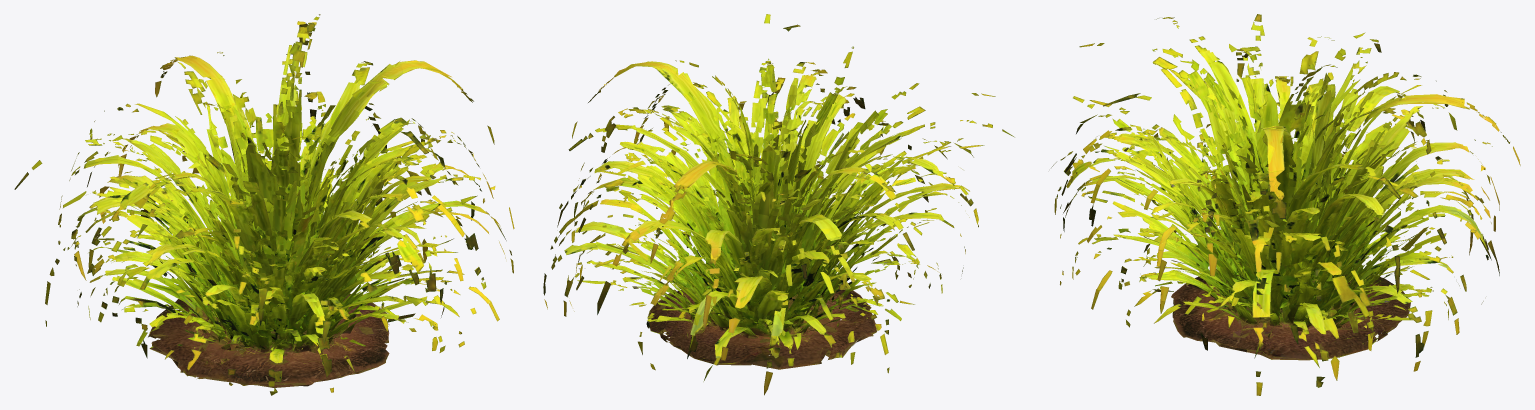
File: veg_ground_grass_01.glb
3 renders of one model, left to right at view 1: azimuth 30°, elevation 25°; view 2: azimuth 150°, elevation 25°; view 3: azimuth 270°, elevation 25°, orthographic. The views are drawn at different scales.
Parts seen in each view (by area): view 1: veg_ground_grass_01; view 2: veg_ground_grass_01; view 3: veg_ground_grass_01.
Boxes of the visible parts, x1,y1,x2,y2 form: veg_ground_grass_01: (14,14,514,395); veg_ground_grass_01: (543,14,1014,395); veg_ground_grass_01: (1051,14,1520,395).
Bounding box in the file's own units: 0.4603 × 0.29 × 0.45.
Materials: 1 (1 with a texture image).
